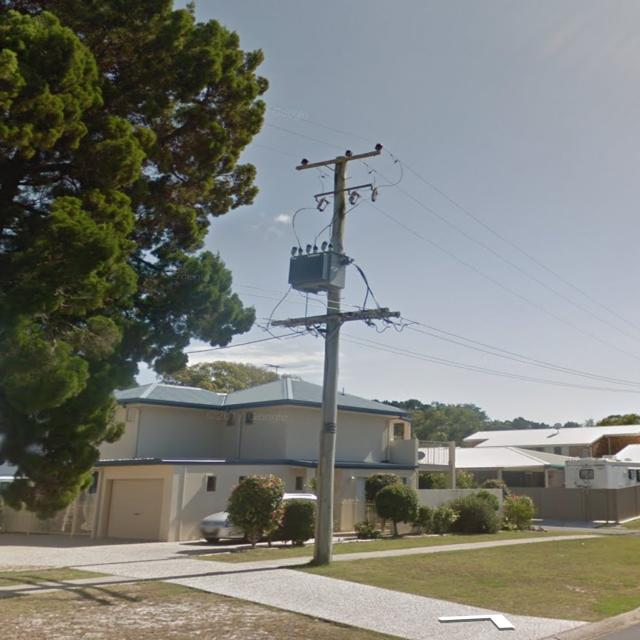HV-transmission: (296, 143, 385, 211)
LV link: (381, 318, 418, 333)
crossarm: (272, 306, 402, 328), (295, 143, 383, 171), (314, 182, 374, 197)
timber-pole: (311, 155, 349, 565)
transformer: (287, 242, 343, 293)
